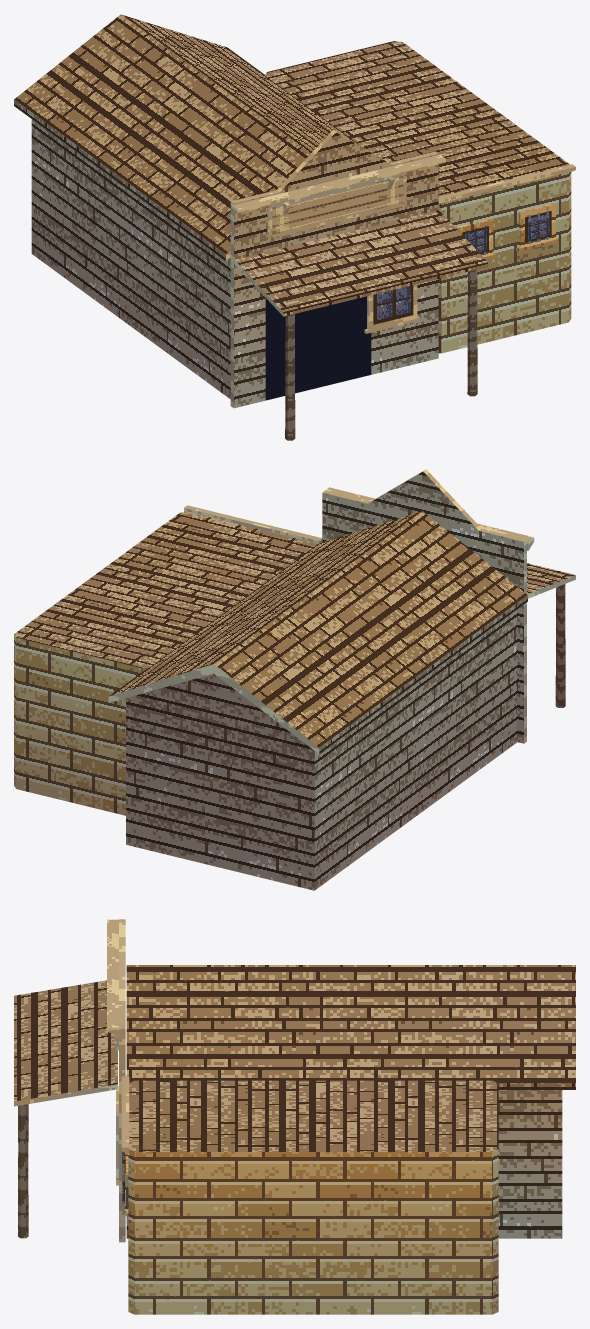
Rendered from wtown.sheriff__entry.glb.
3 views of the same model, one above another, from view 1: azimuth 30°, elevation 25°; view 2: azimuth 150°, elevation 25°; view 3: azimuth 270°, elevation 25° (orthographic). The views are drawn at different scales.
Visible parts, largest first — view 1: kit_roof, kit_jail, kit_body, kit_porch, kit_front, kit_card_panes, kit_trim, kit_windows; view 2: kit_body, kit_roof, kit_jail, kit_front, kit_porch, kit_trim; view 3: kit_jail, kit_roof, kit_porch, kit_body, kit_front, kit_trim, kit_windows.
Part boxes in pixels (bbox=[...]): kit_roof: bbox=[14, 14, 439, 260]; kit_jail: bbox=[265, 41, 575, 353]; kit_body: bbox=[31, 119, 230, 399]; kit_porch: bbox=[234, 210, 487, 440]; kit_front: bbox=[230, 130, 438, 408]; kit_card_panes: bbox=[265, 176, 551, 400]; kit_trim: bbox=[231, 154, 445, 237]; kit_windows: bbox=[364, 203, 558, 333]; kit_body: bbox=[126, 610, 516, 890]; kit_roof: bbox=[108, 511, 527, 753]; kit_jail: bbox=[14, 505, 322, 815]; kit_front: bbox=[322, 469, 526, 743]; kit_porch: bbox=[527, 563, 575, 707]; kit_trim: bbox=[323, 487, 534, 550]; kit_jail: bbox=[121, 1076, 498, 1314]; kit_roof: bbox=[126, 965, 575, 1089]; kit_porch: bbox=[14, 980, 117, 1238]; kit_body: bbox=[126, 1090, 562, 1238]; kit_front: bbox=[119, 919, 125, 1242]; kit_trim: bbox=[107, 919, 120, 1050]; kit_windows: bbox=[116, 1086, 128, 1216].
Bounding box in the file's own units: 7.85 × 5.4 × 10.32.
Materials: 9 (9 with a texture image).
